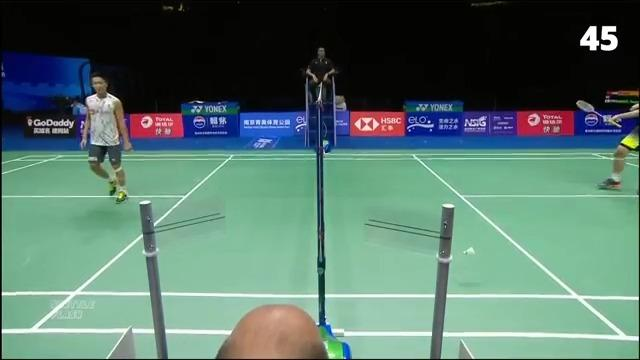Shuttlecock: (462, 244, 480, 260)
